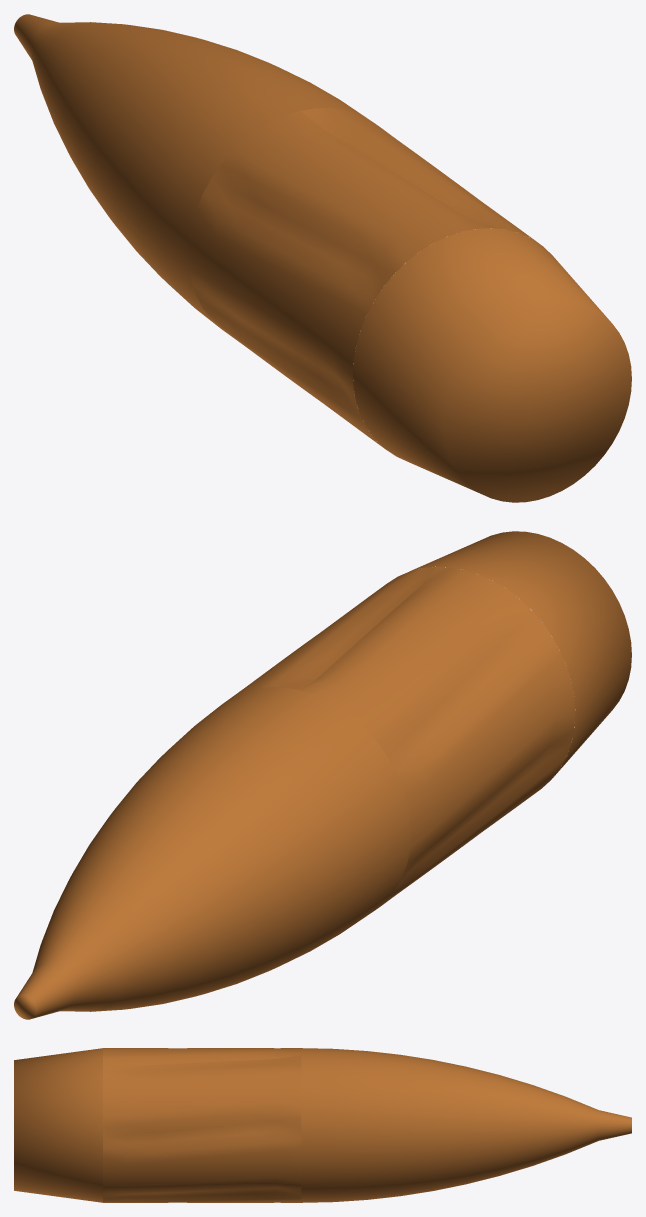
Rendered from bullet.glb.
3 views of the same model, one above another, from view 1: azimuth 30°, elevation 25°; view 2: azimuth 150°, elevation 25°; view 3: azimuth 270°, elevation 25° (orthographic). The views are drawn at different scales.
Parts seen in each view (by area): view 1: boat-tail, bearing-surface, ogive; view 2: ogive, bearing-surface, boat-tail; view 3: ogive, bearing-surface, boat-tail.
Boxes of the visible parts, <box> form: boat-tail: <box>353,228,631,502</box>; bearing-surface: <box>188,108,538,448</box>; ogive: <box>14,14,366,327</box>; ogive: <box>14,687,410,1019</box>; bearing-surface: <box>224,566,575,906</box>; boat-tail: <box>410,531,631,777</box>; ogive: <box>301,1048,631,1202</box>; bearing-surface: <box>103,1048,301,1202</box>; boat-tail: <box>14,1048,102,1202</box>.
Size of the model in its own units: 0.00782 by 0.00782 by 0.0312.
